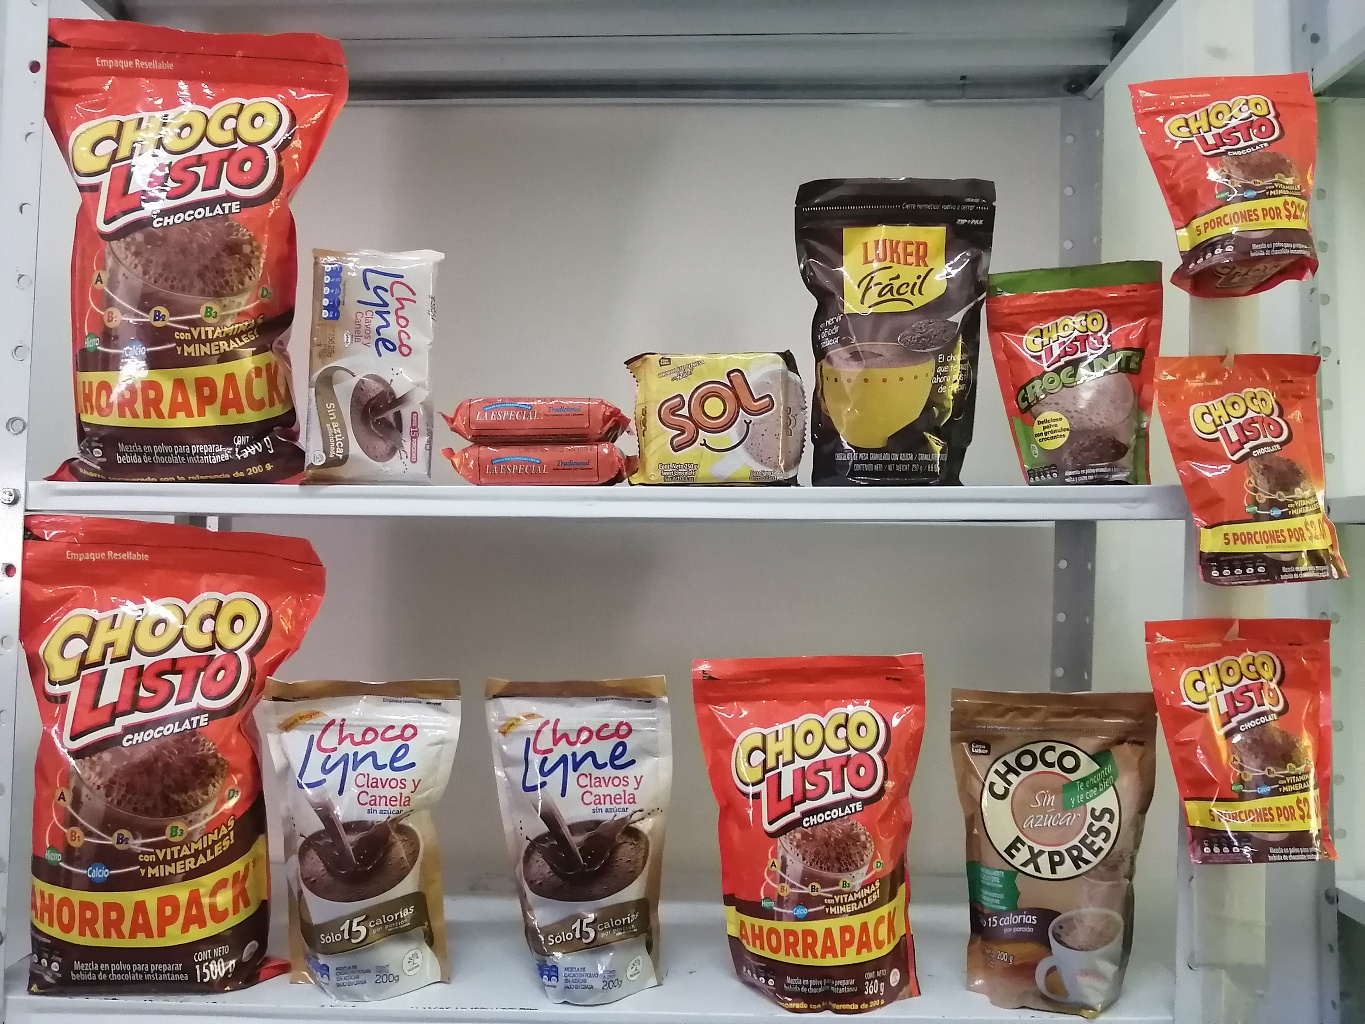COL0170102DYP10000: (992, 241, 1160, 485)
COL0170103DYP1,500: (13, 510, 318, 1002)
COL0170103DYP10000: (1126, 60, 1360, 308)
COL0170103DYP36000: (673, 629, 925, 997)
